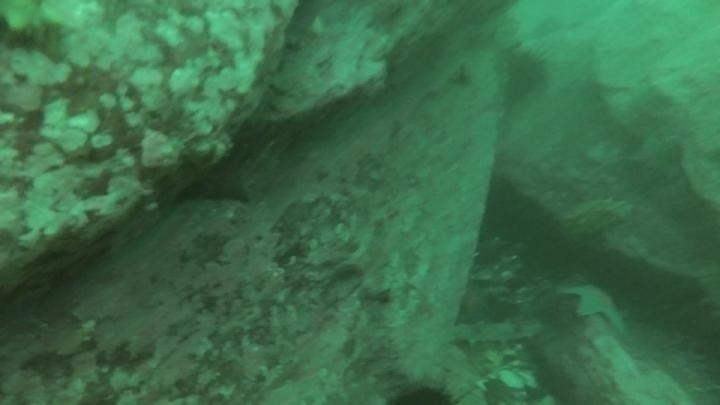echinus: (502, 47, 550, 100), (383, 376, 463, 405)
holothurian: (447, 315, 547, 353), (562, 194, 635, 235)
starfish: (164, 146, 256, 208), (557, 277, 631, 335), (453, 281, 498, 327)
